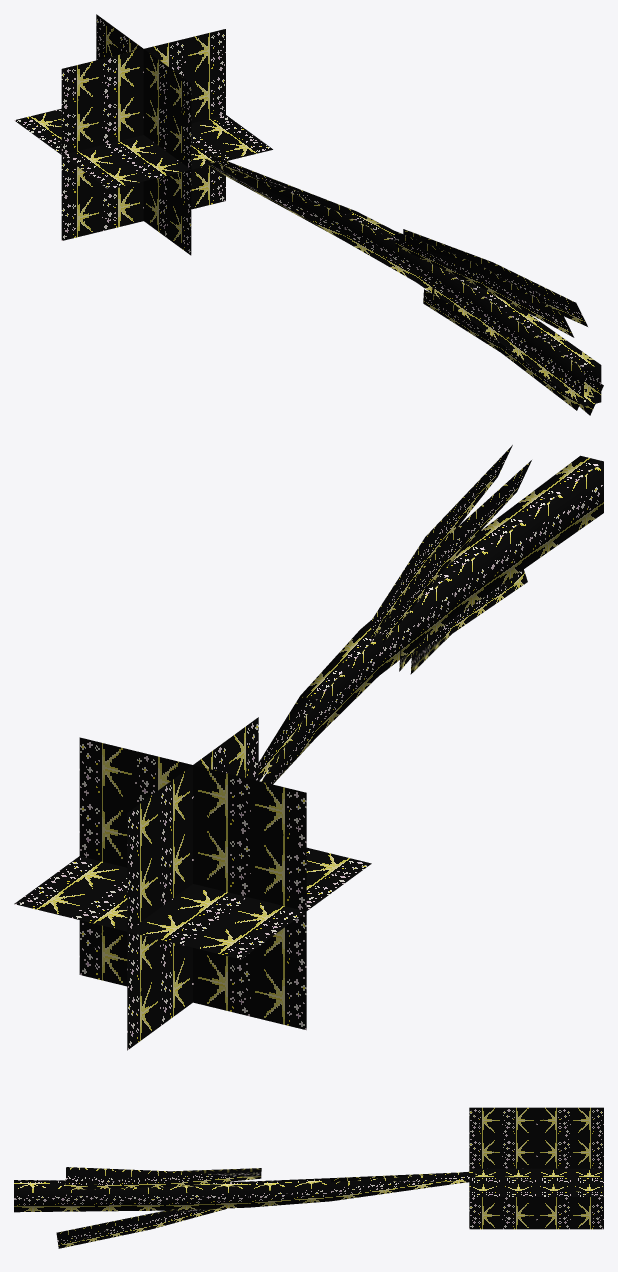
The model's file is 2730sbim03_23.gltf.
3 renders of one model, top to bottom at view 1: azimuth 30°, elevation 25°; view 2: azimuth 150°, elevation 25°; view 3: azimuth 270°, elevation 25°, orthographic. The views are drawn at different scales.
Visible parts, largest first — view 1: 2730sbim03_23; view 2: 2730sbim03_23; view 3: 2730sbim03_23.
Part boxes in pixels (left/top/right/bottom): 2730sbim03_23: left=14, top=14, right=603, bottom=415; 2730sbim03_23: left=14, top=445, right=603, bottom=1050; 2730sbim03_23: left=14, top=1107, right=603, bottom=1248.
Bounding box in the file's own units: 0.5916 × 0.479 × 2.1.
1 material, 1 textured.
